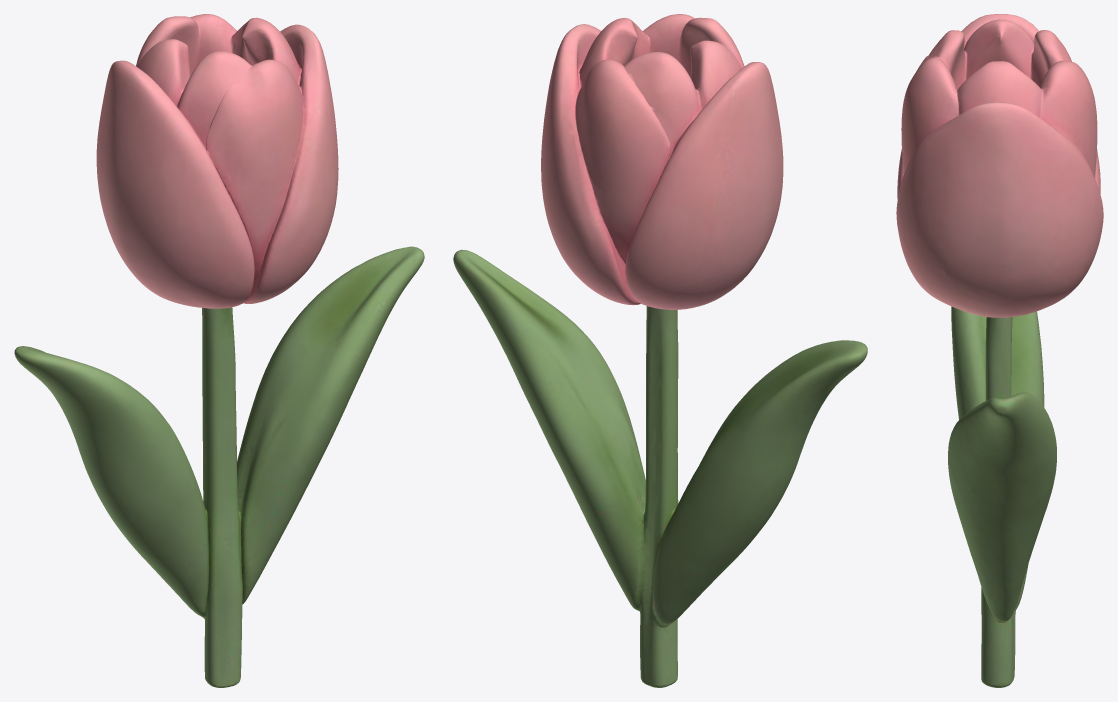
Rendered from pink_tulip.glb.
3 views of the same model, side by side, from view 1: azimuth 30°, elevation 25°; view 2: azimuth 150°, elevation 25°; view 3: azimuth 270°, elevation 25° (orthographic). The views are drawn at different scales.
Parts seen in each view (by area): view 1: model; view 2: model; view 3: model.
Boxes of the visible parts, left/top/right/bottom form: model: left=14, top=14, right=424, bottom=687; model: left=453, top=14, right=867, bottom=687; model: left=896, top=14, right=1103, bottom=687.
Size of the model in its own units: 1.24 by 1.9 by 0.5581.
Materials: 1 (1 with a texture image).
